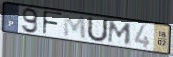4: (133, 24, 152, 51)
9: (21, 7, 39, 35)
F: (41, 9, 64, 36)
M: (63, 13, 87, 42), (107, 20, 133, 46)
U: (86, 16, 109, 44)
